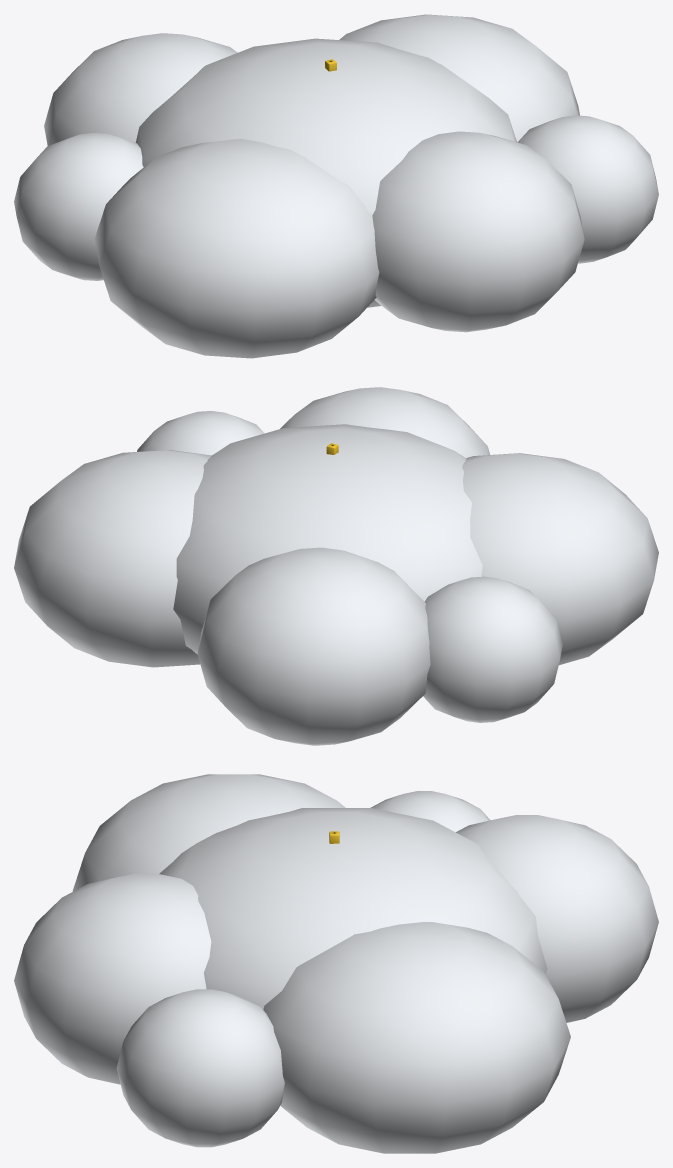
The model's file is Activity.fbx.
3 views of the same model, one above another, from view 1: azimuth 30°, elevation 25°; view 2: azimuth 150°, elevation 25°; view 3: azimuth 270°, elevation 25° (orthographic). The views are drawn at different scales.
Visible parts, largest first — view 1: ActFogPuffs.001; view 2: ActFogPuffs.001; view 3: ActFogPuffs.001.
Boxes of the visible parts, <box> form: ActFogPuffs.001: <box>14,14,658,358</box>; ActFogPuffs.001: <box>14,387,658,745</box>; ActFogPuffs.001: <box>14,774,658,1153</box>.
Size of the model in its own units: 89.15 by 36.59 by 88.
63 materials, 26 textured.
